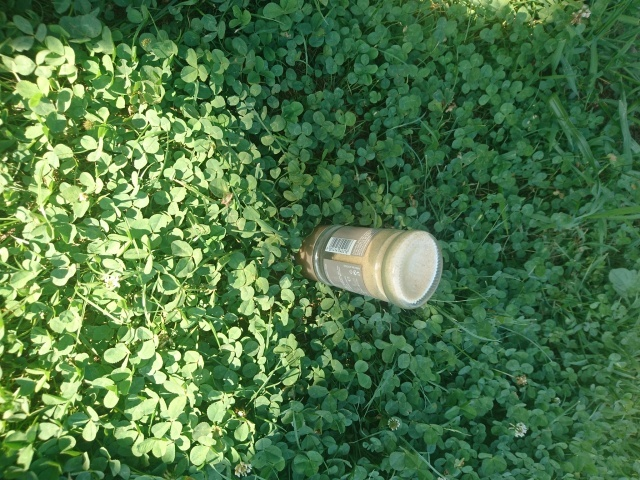Kotanyi Garlic Granules 70g: (285, 221, 446, 312)
